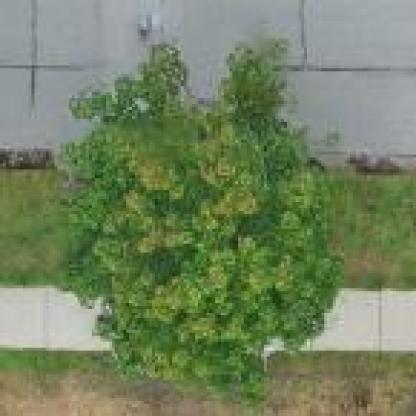Deciduous Tree: (40, 28, 356, 400)
